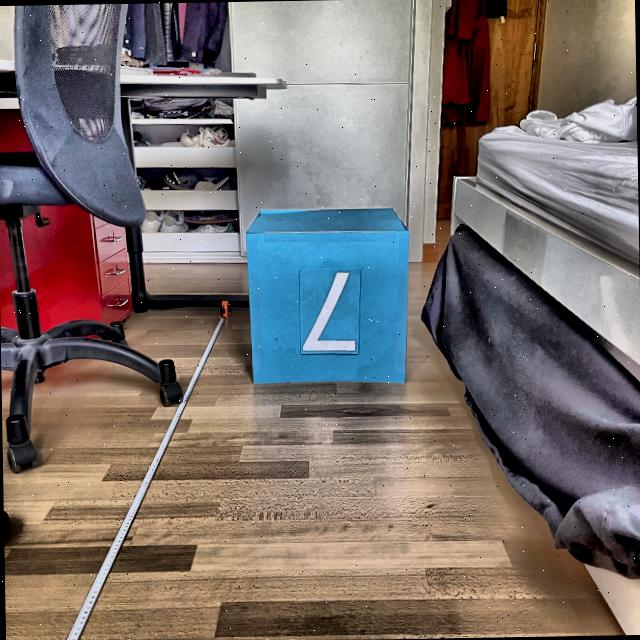blue box: (246, 196, 414, 387)
seven: (300, 264, 361, 358)
